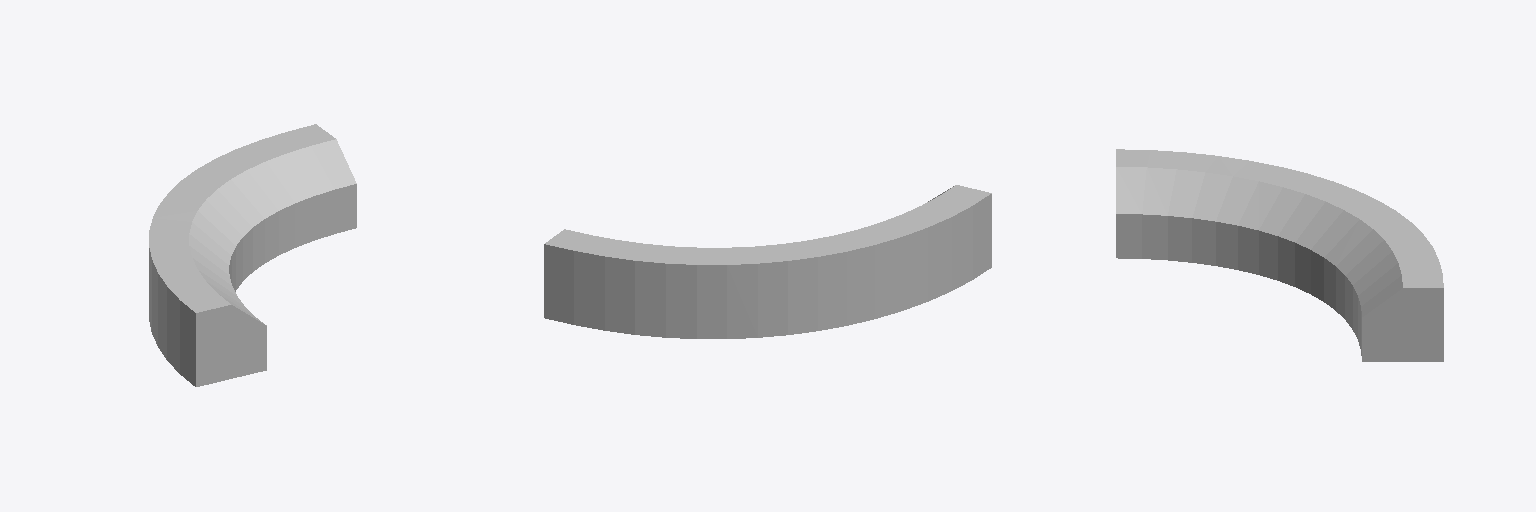
Rendered from Inside_Bend_LP.obj.
3 views of the same model, side by side, from view 1: azimuth 30°, elevation 25°; view 2: azimuth 150°, elevation 25°; view 3: azimuth 270°, elevation 25° (orthographic).
Parts seen in each view (by area): view 1: Inside_Bend_LP; view 2: Inside_Bend_LP; view 3: Inside_Bend_LP.
Part boxes in pixels (x1,y1,x2,y2): Inside_Bend_LP: (149,124,356,386); Inside_Bend_LP: (544,185,991,338); Inside_Bend_LP: (1116,149,1443,361).
Size of the model in its own units: 4 by 1.01 by 4.